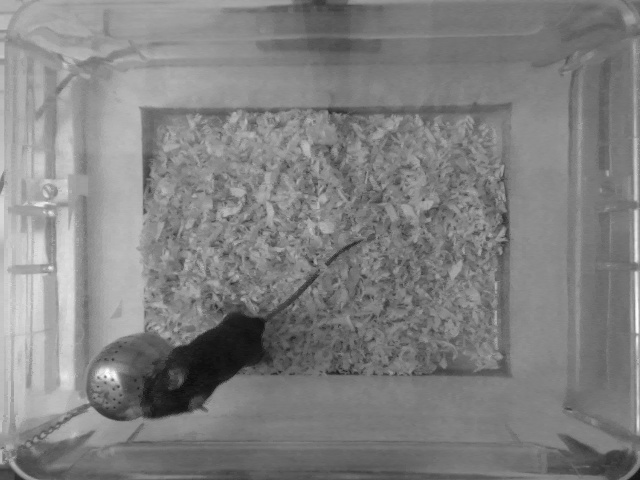mice: (141, 237, 363, 421)
